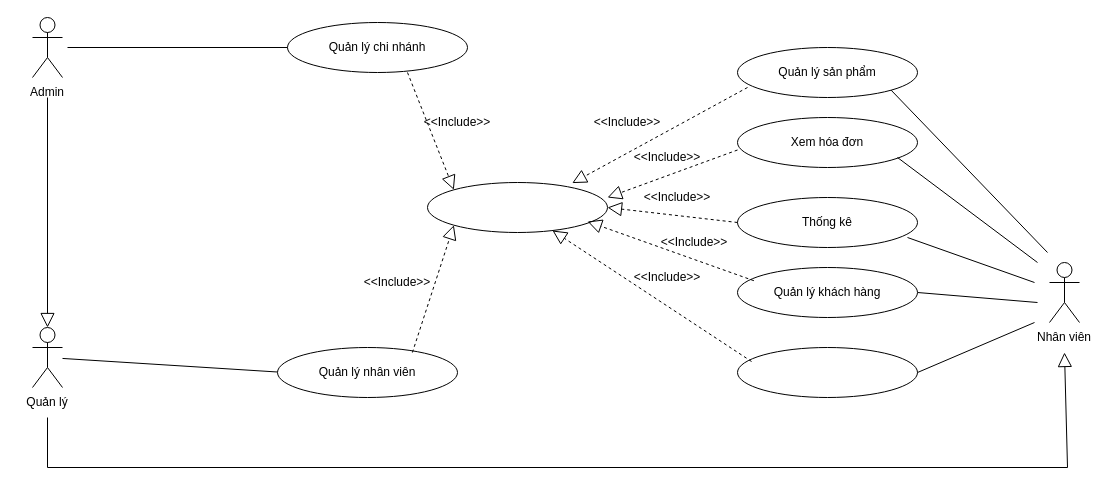
Some shapes in this 1111 by 499 pixel diagram are drawn without their labels. The shapes that lost their labels are listed below. From the top down, each one's box as (x1, y1, x2, y2) in pixels, then its label:
(426, 182, 608, 232): Đăng nhập
(736, 346, 918, 398): Quản lý kho
